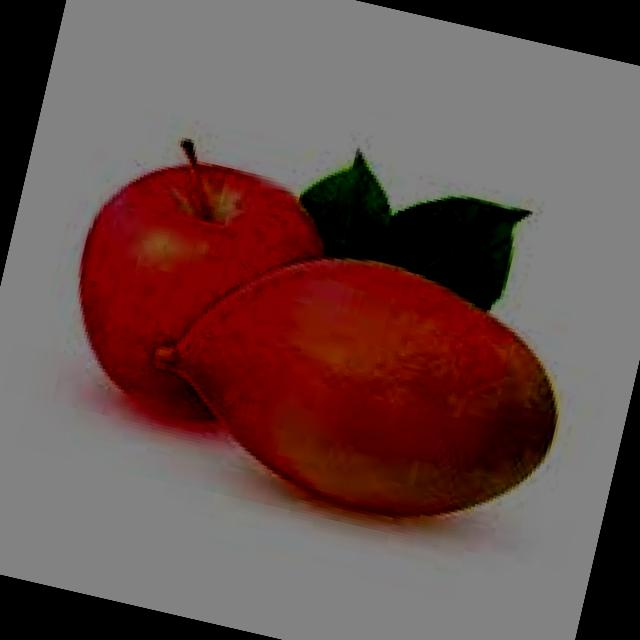Apple: (55, 140, 342, 442)
Mango: (138, 219, 580, 544)
